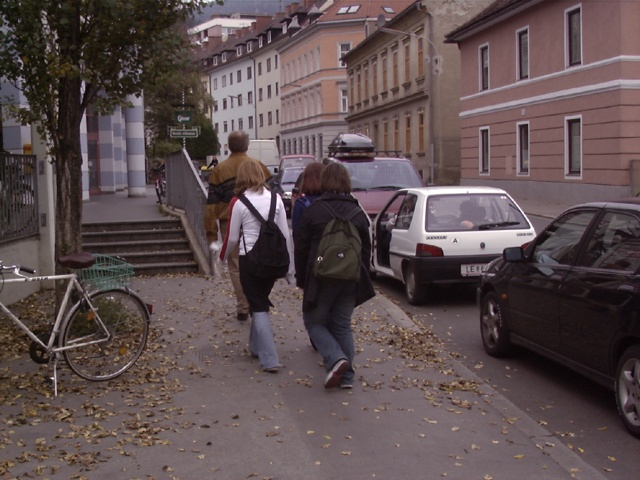person: (290, 156, 373, 387), (228, 162, 288, 372)
